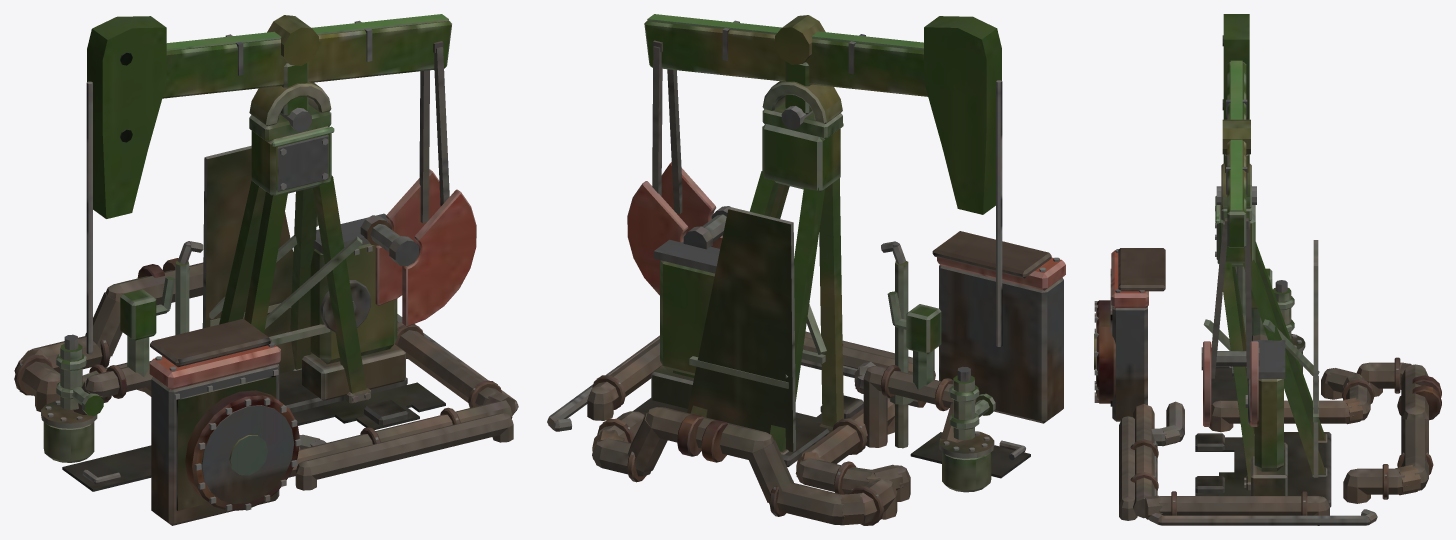
File: pumpjack-south.glb
The picture shows the model from 3 angles, left to right: view 1: azimuth 30°, elevation 25°; view 2: azimuth 150°, elevation 25°; view 3: azimuth 270°, elevation 25°; orthographic projection. The views are drawn at different scales.
Parts seen in each view (by area): view 1: anim_upright_still, body, anim_upright_rock_beam, anim_upright_spin_crank; view 2: anim_upright_still, body, anim_upright_rock_beam, anim_upright_spin_crank; view 3: body, anim_upright_still, anim_upright_rock_beam, anim_upright_spin_crank.
Boxes of the visible parts, left/top/right/bottom form: anim_upright_still: left=41, top=41, right=449, bottom=491; body: left=14, top=258, right=518, bottom=525; anim_upright_rock_beam: left=87, top=14, right=451, bottom=218; anim_upright_spin_crank: left=360, top=169, right=476, bottom=326; anim_upright_still: left=633, top=40, right=1030, bottom=492; body: left=547, top=231, right=1065, bottom=525; anim_upright_rock_beam: left=644, top=14, right=1001, bottom=214; anim_upright_spin_crank: left=627, top=162, right=730, bottom=295; body: left=1094, top=248, right=1441, bottom=525; anim_upright_still: left=1195, top=163, right=1331, bottom=507; anim_upright_rock_beam: left=1222, top=14, right=1250, bottom=247; anim_upright_spin_crank: left=1201, top=341, right=1259, bottom=426.
Size of the model in its own units: 3.26 by 3.45 by 2.94.
1 material, 1 textured.
